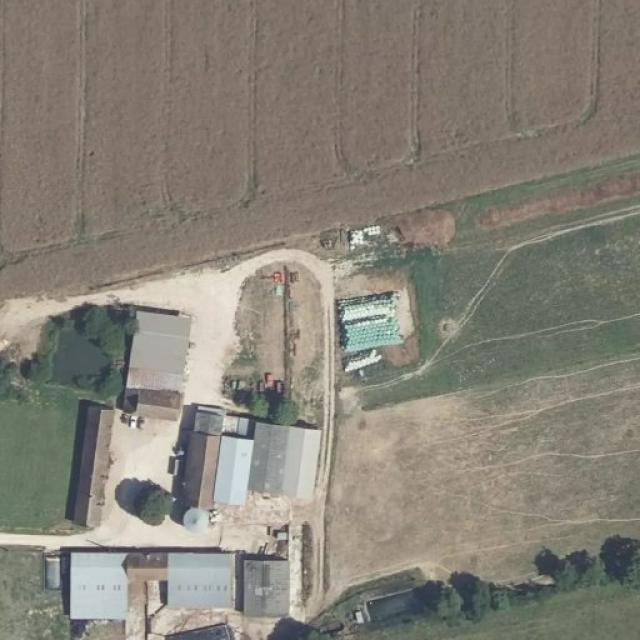ferme: (247, 414, 328, 505), (116, 312, 196, 402), (70, 404, 116, 524), (69, 550, 129, 619), (168, 543, 232, 597), (262, 552, 296, 607), (121, 543, 168, 571), (244, 551, 264, 607)
maison: (164, 392, 260, 516)
